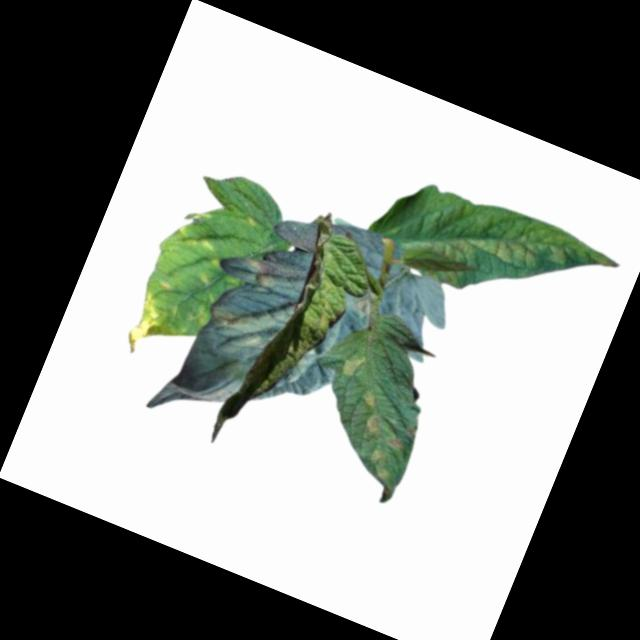Leaf_Mold: (428, 185, 624, 320), (202, 274, 297, 358), (119, 290, 188, 365), (240, 241, 307, 300), (165, 216, 219, 263), (349, 386, 391, 436), (337, 349, 364, 383), (347, 290, 373, 318)
